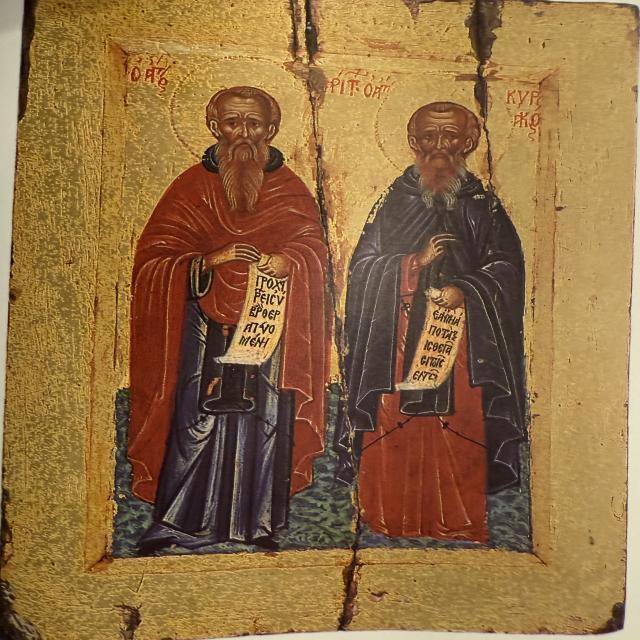aura: (171, 55, 323, 165), (378, 71, 514, 179)
saint: (93, 51, 345, 553), (349, 53, 550, 547)
scroll: (211, 245, 301, 377), (396, 278, 483, 399)
